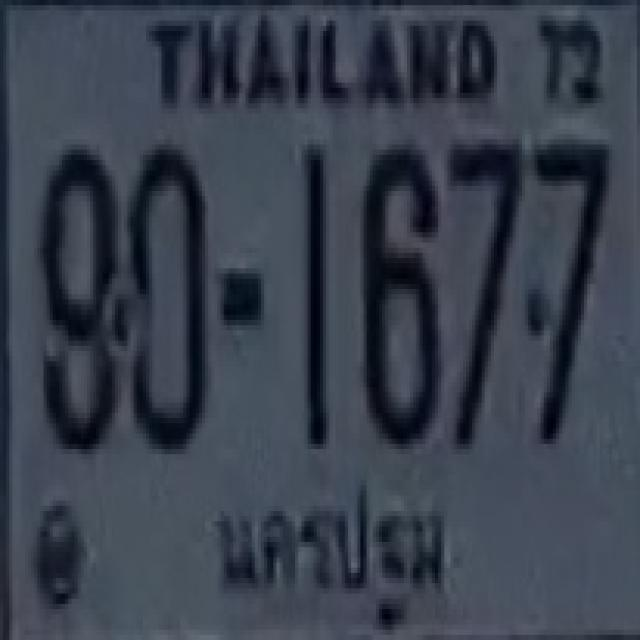0: (132, 142, 207, 446)
1: (303, 144, 325, 444)
6: (360, 139, 435, 439)
7: (525, 137, 606, 436), (447, 134, 519, 444)
9: (44, 139, 121, 449)
NPT: (216, 473, 451, 632)
